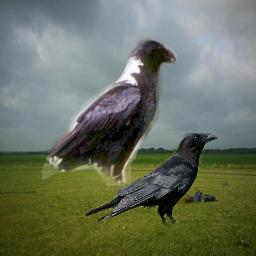Crow: (42, 34, 178, 186), (84, 133, 218, 227)
